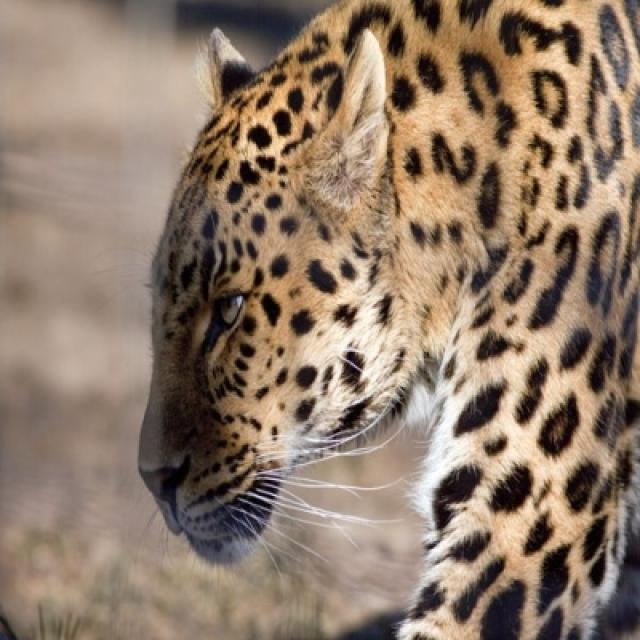Cheetah: (139, 0, 638, 637)
